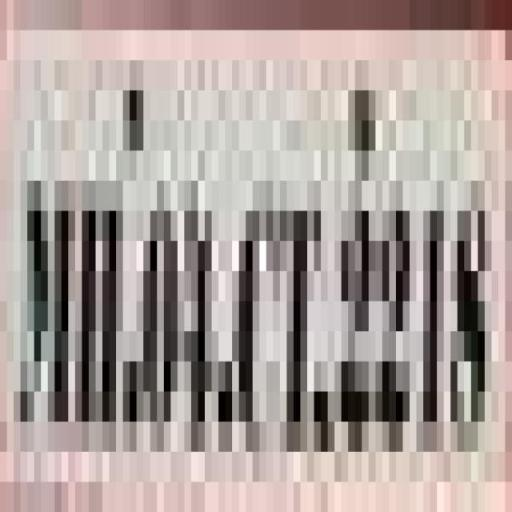number plate: (0, 29, 485, 512)
